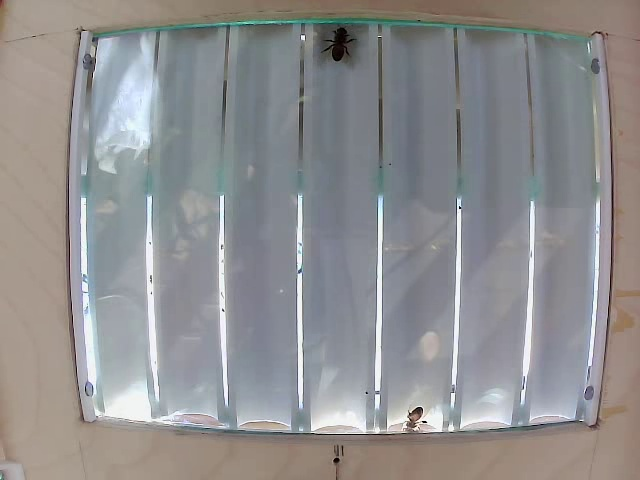bee: (318, 21, 365, 75), (393, 394, 425, 421)
